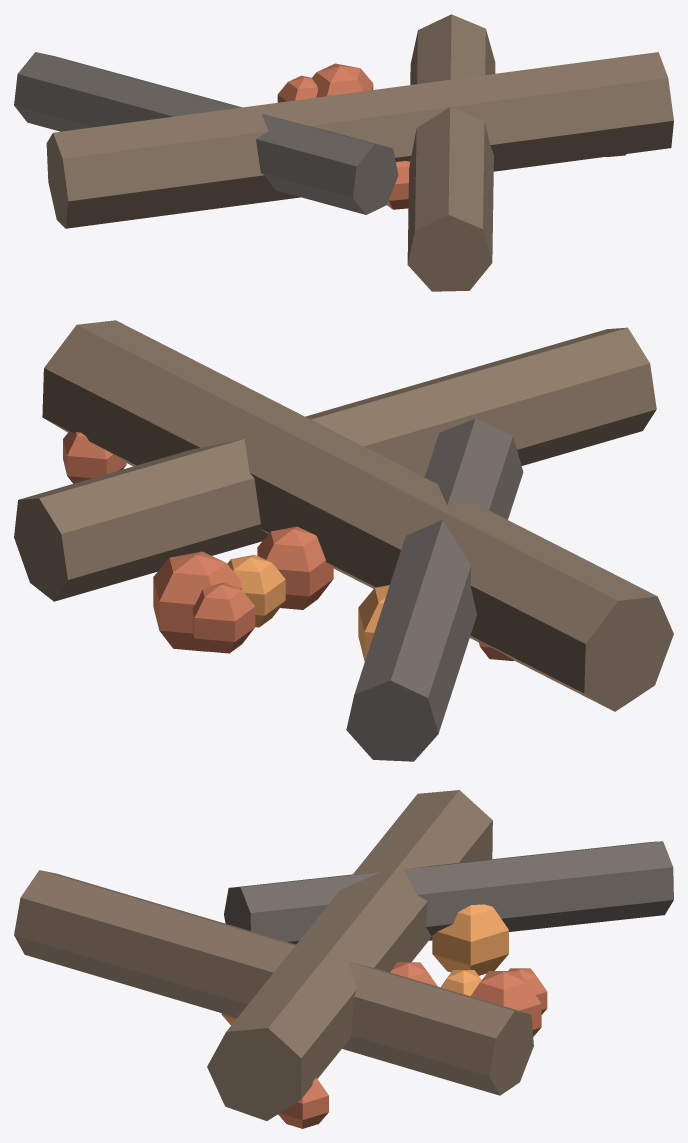
File: ws_fx_ember.glb
3 renders of one model, top to bottom at view 1: azimuth 30°, elevation 25°; view 2: azimuth 150°, elevation 25°; view 3: azimuth 270°, elevation 25°, orthographic. The views are drawn at different scales.
Parts seen in each view (by area): view 1: ws_fx_ember; view 2: ws_fx_ember; view 3: ws_fx_ember.
Part boxes in pixels (left/top/right/bottom): ws_fx_ember: left=14, top=14, right=673, bottom=291; ws_fx_ember: left=14, top=320, right=673, bottom=761; ws_fx_ember: left=14, top=790, right=673, bottom=1128.
Bounding box in the file's own units: 1 × 0.2135 × 1.02.
